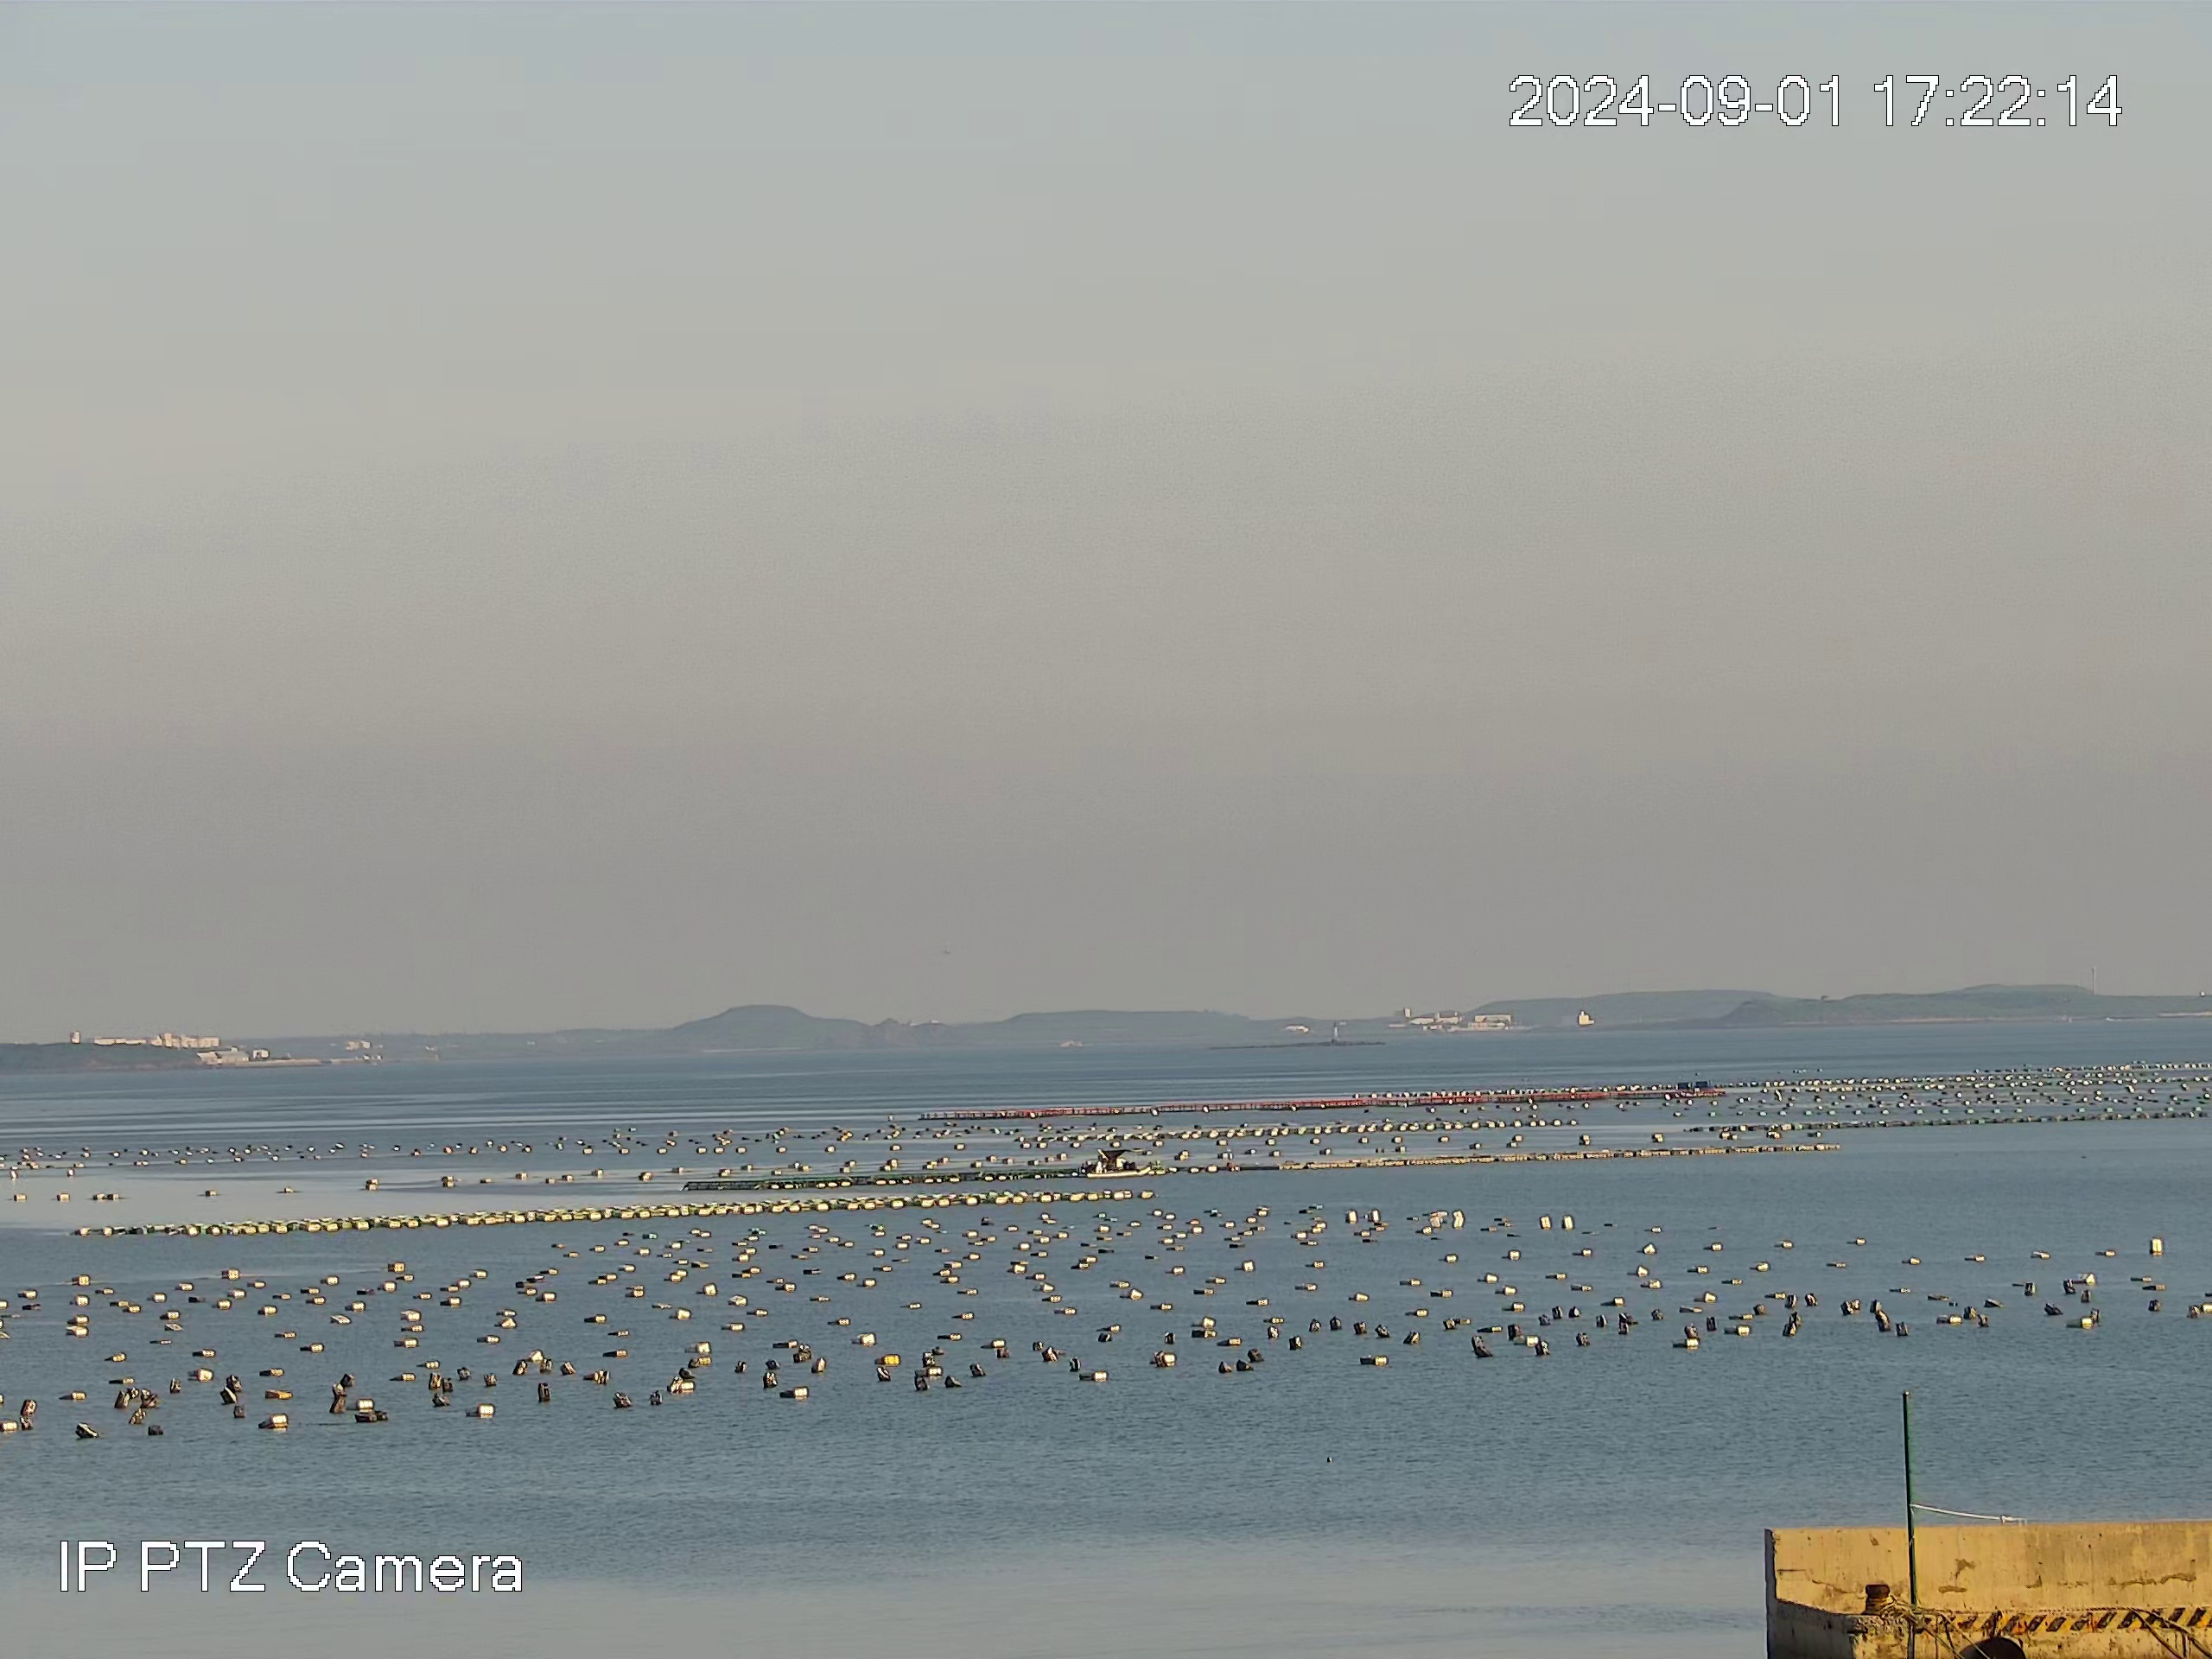boat: (1087, 1147, 1153, 1178)
